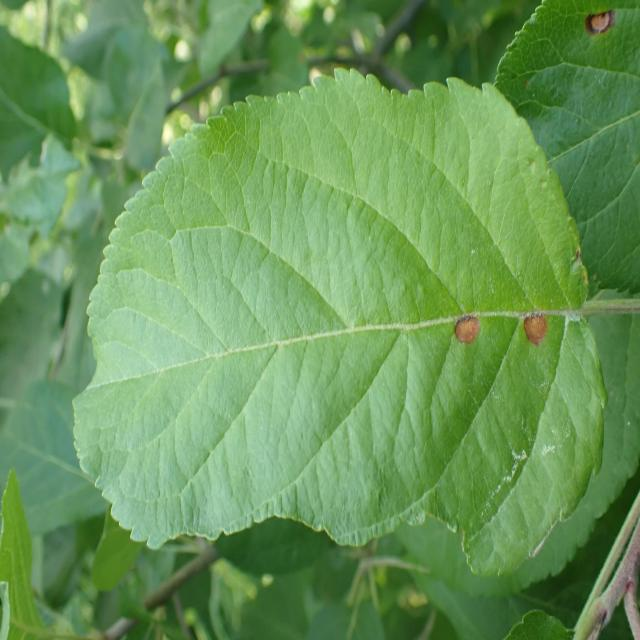Black Rot: (522, 0, 631, 51), (500, 303, 582, 366), (437, 288, 482, 353)
